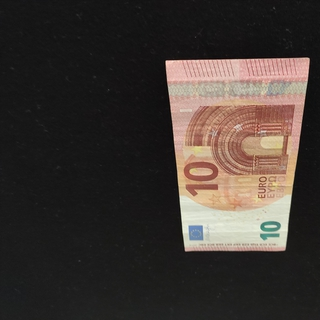10EUROFront: (164, 56, 310, 252)
